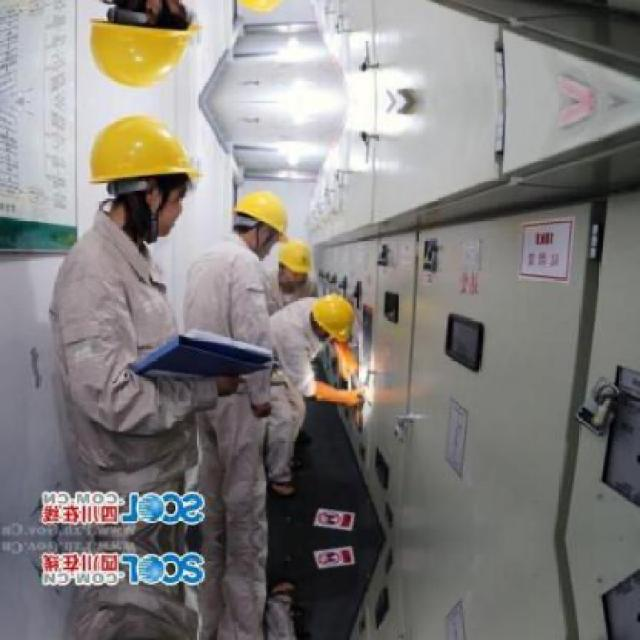helmet: (82, 101, 203, 242), (82, 0, 205, 100), (231, 184, 291, 256), (308, 291, 357, 343), (277, 236, 317, 290), (231, 0, 292, 17)
